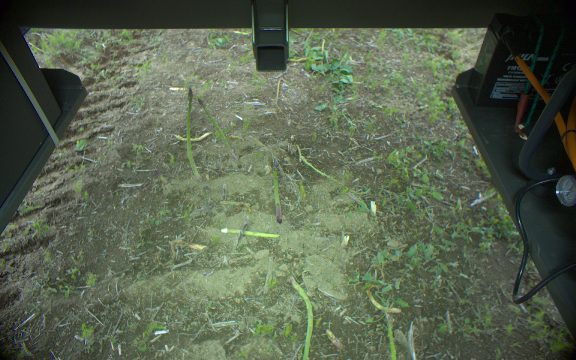aspa: (288, 277, 316, 360), (197, 96, 231, 151), (183, 88, 202, 179), (269, 159, 285, 225), (381, 306, 400, 360), (325, 326, 343, 353)
